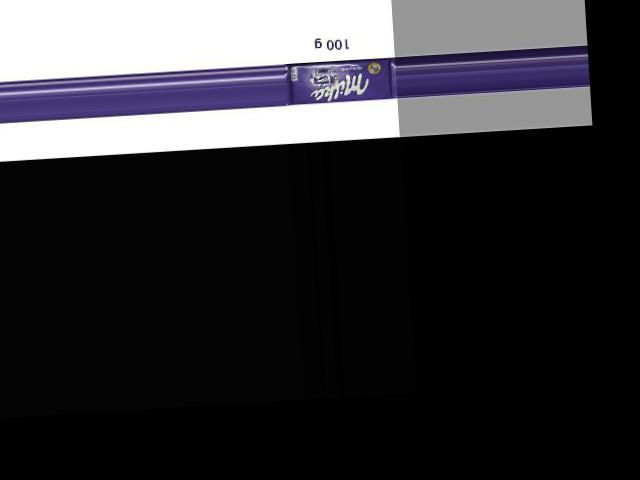chocolate: (282, 49, 394, 106)
